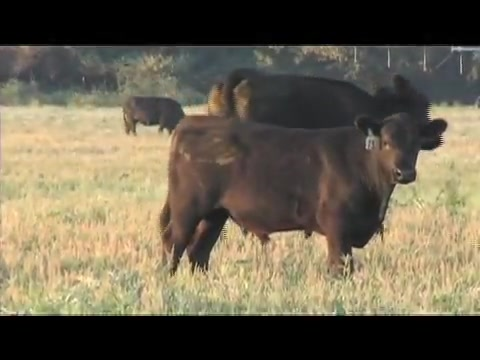cow: (159, 112, 449, 276), (206, 70, 433, 132), (121, 95, 186, 136)
